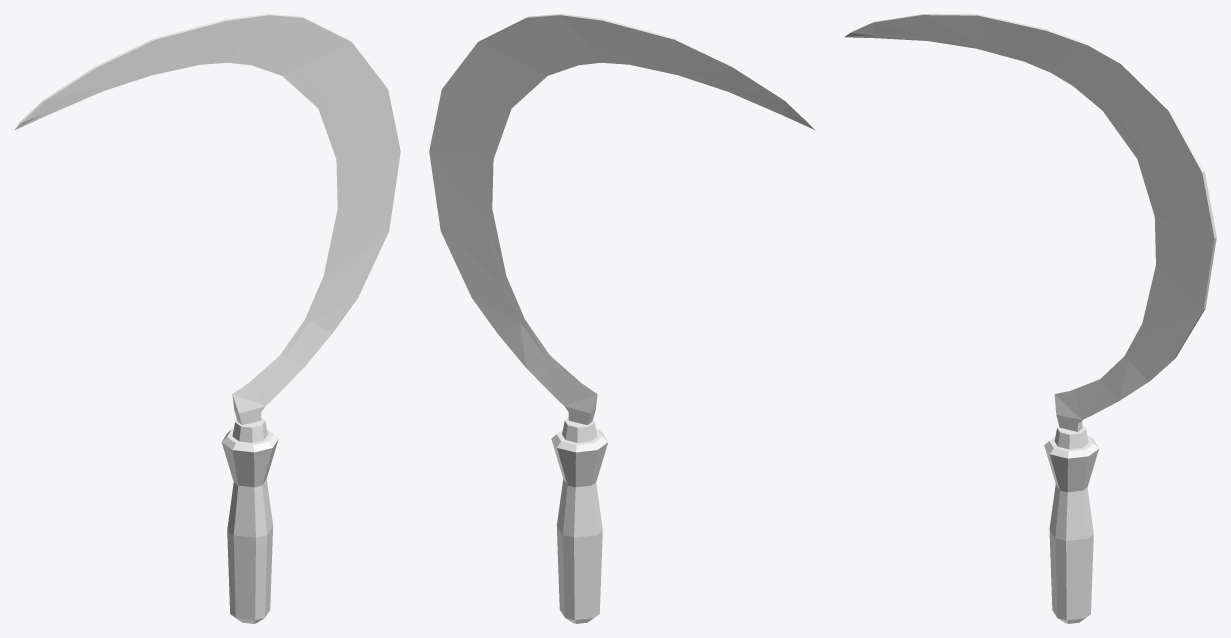
Rendered from Tool_Hand_Scythe_03.glb.
3 renders of one model, left to right at view 1: azimuth 30°, elevation 25°; view 2: azimuth 150°, elevation 25°; view 3: azimuth 330°, elevation 25°, orthographic. The views are drawn at different scales.
Parts seen in each view (by area): view 1: Tool_Hand Scythe_03; view 2: Tool_Hand Scythe_03; view 3: Tool_Hand Scythe_03.
Part boxes in pixels (box(x1,y1,x2,y2)): Tool_Hand Scythe_03: box(14, 14, 400, 623); Tool_Hand Scythe_03: box(429, 14, 815, 623); Tool_Hand Scythe_03: box(844, 14, 1216, 623).
Bounding box in the file's own units: 0.3395 × 0.51 × 0.0407.
Materials: 1 (1 with a texture image).
